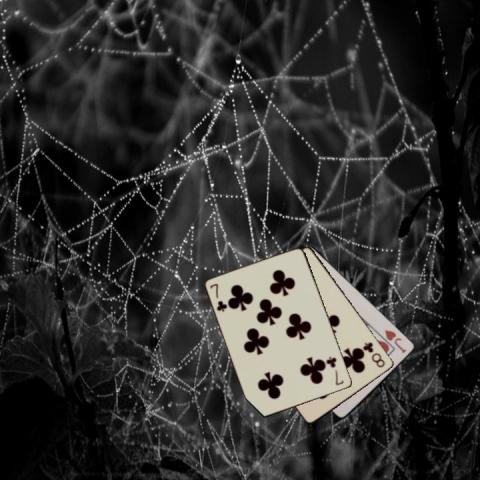7c: (207, 281, 229, 313), (325, 353, 345, 387)
8c: (360, 338, 386, 368)
Jh: (382, 326, 408, 354)
